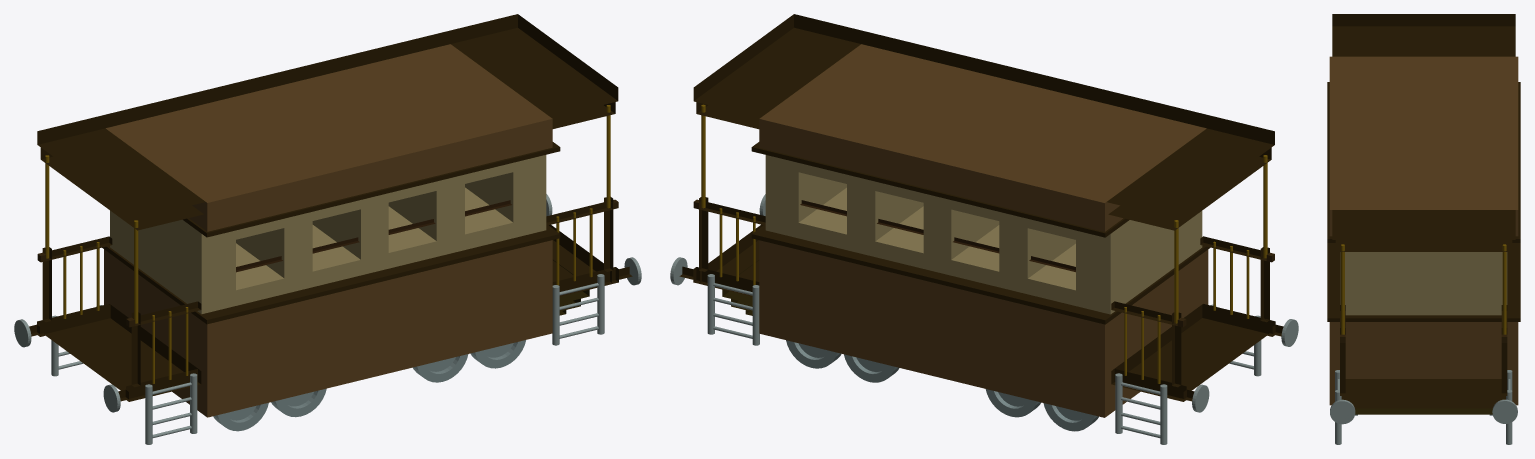
The model's file is rtm_carriage.gltf.
3 views of the same model, side by side, from view 1: azimuth 30°, elevation 25°; view 2: azimuth 150°, elevation 25°; view 3: azimuth 270°, elevation 25° (orthographic). The views are drawn at different scales.
Parts seen in each view (by area): view 1: Carriage; view 2: Carriage; view 3: Carriage.
Part boxes in pixels (x1,y1,x2,y2): Carriage: (14,14,641,444); Carriage: (670,14,1298,444); Carriage: (1327,14,1520,444).
Bounding box in the file's own units: 7.94 × 3.74 × 2.78.
